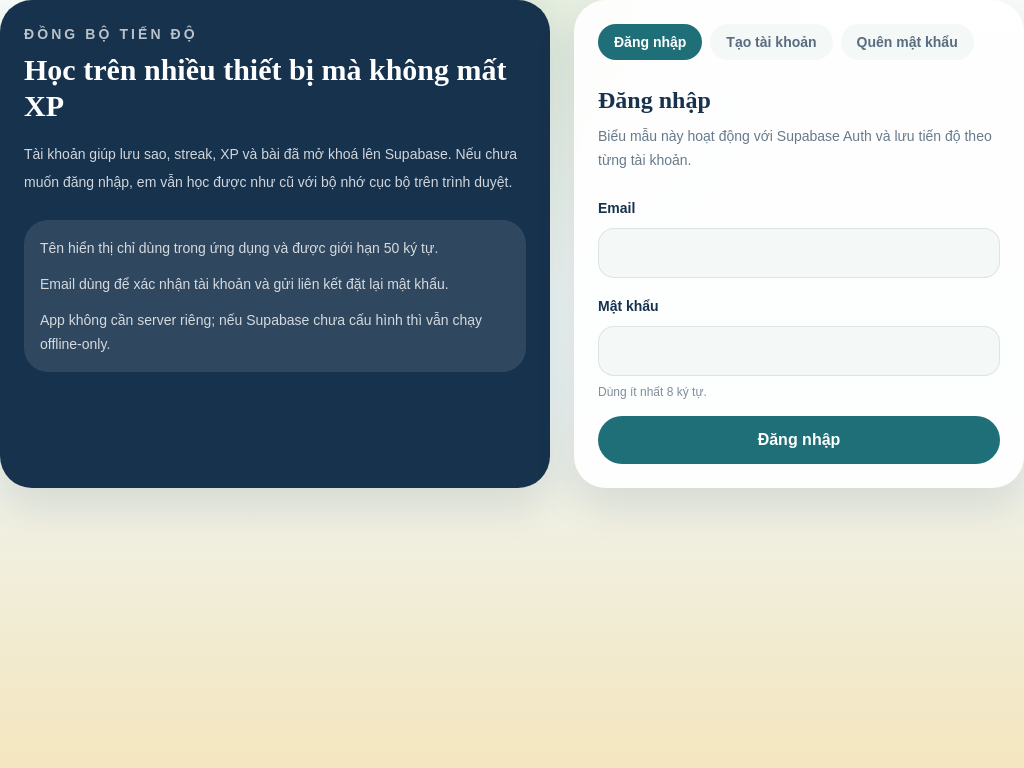
AuthRoute › chế độ quên mật khẩu ẩn trường mật khẩu, gọi resetPassword và hiển thị thông báo
Click the button "Quên mật khẩu" at (907, 42), box [841,24,974,60]
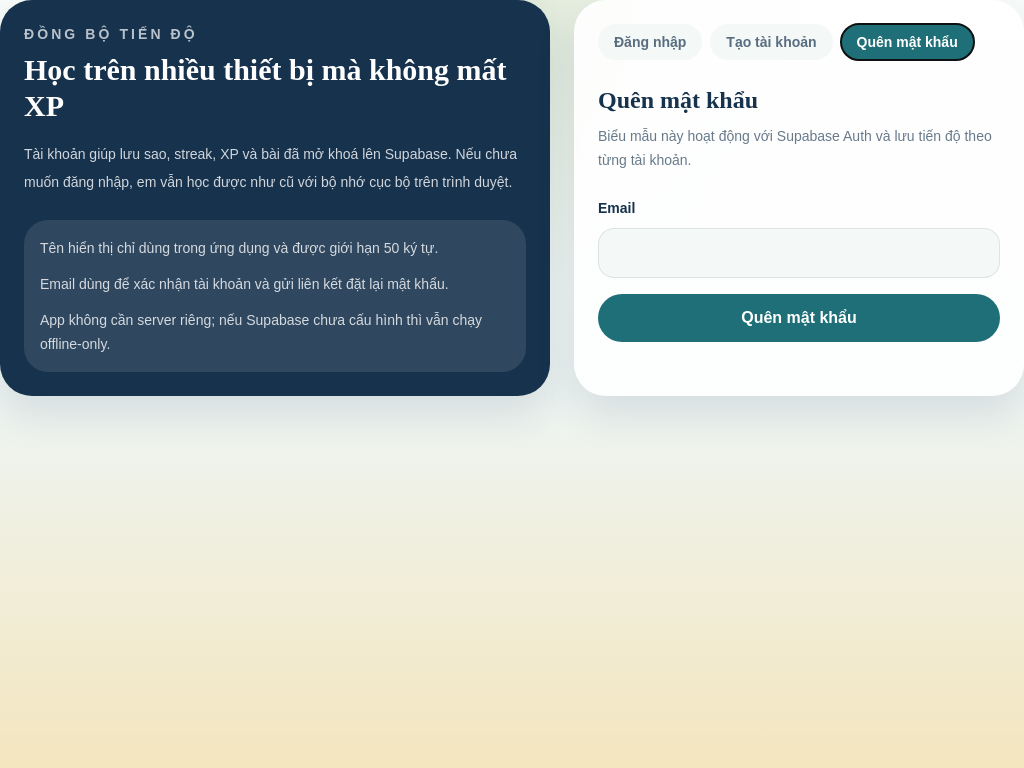
Expected: the heading "Quên mật khẩu" is shown, [598,87,758,113]
Type "lan.anh@example.com" into the field labelled "Email" at (799, 253), box [598,228,1000,278]
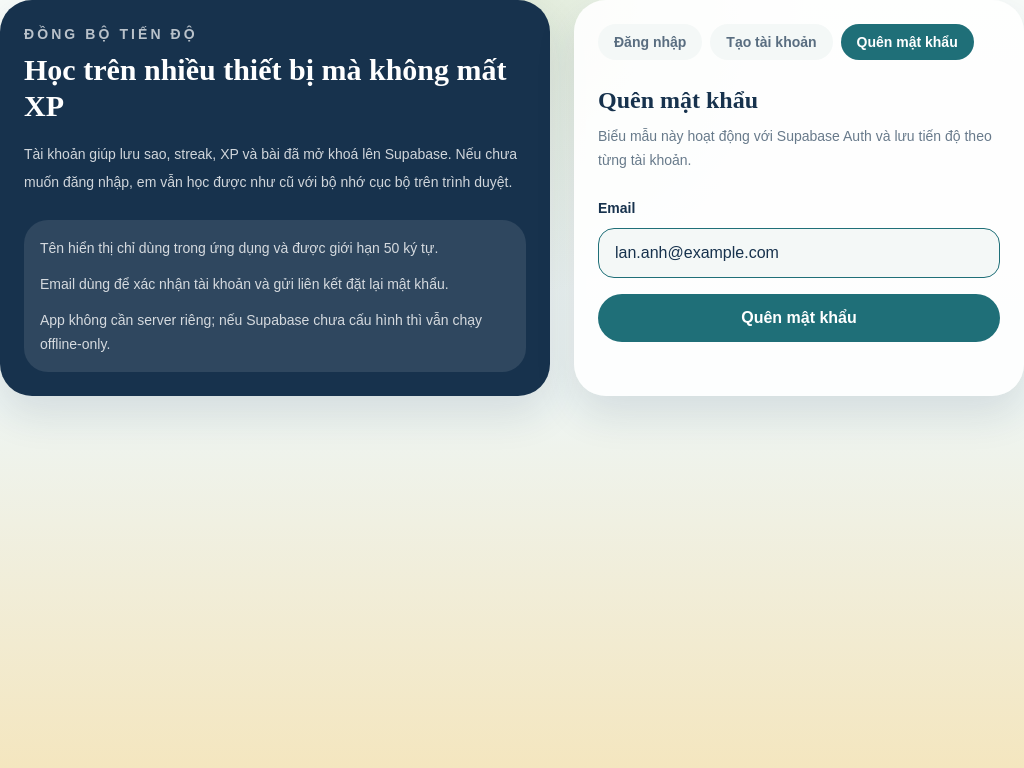
Click the 2nd button "Quên mật khẩu" at (799, 318), box [598,294,1000,342]
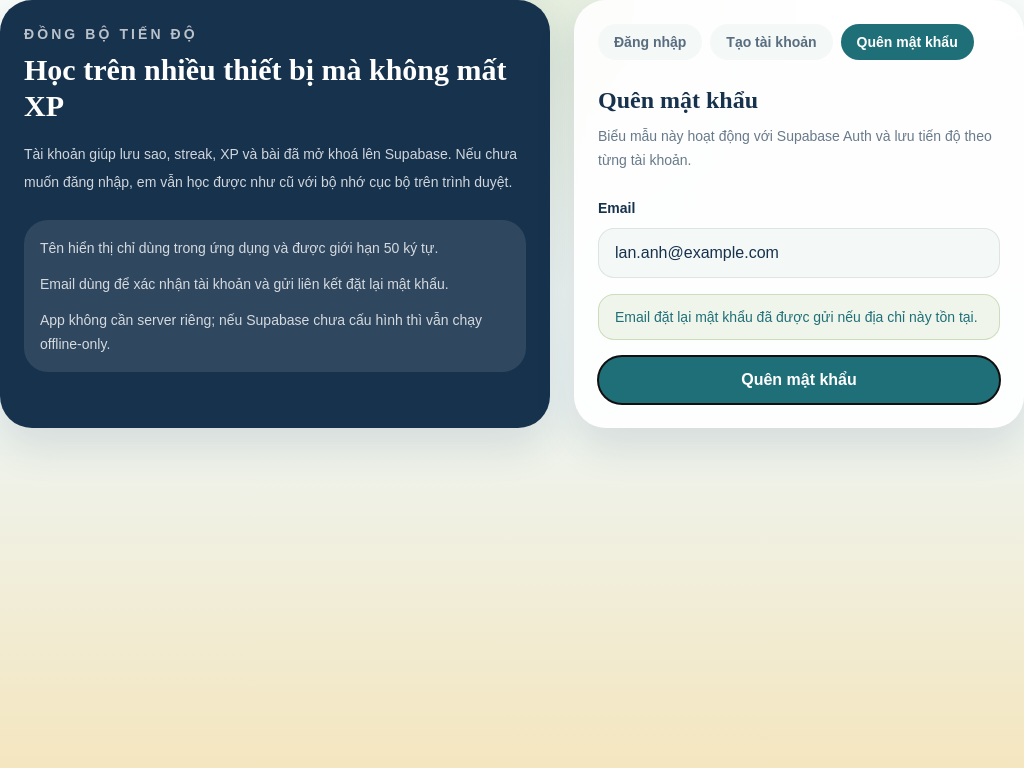
Expected: the text "Email đặt lại mật khẩu đã được gửi nếu địa chỉ này tồn tại." is shown, [598,294,1000,340]
